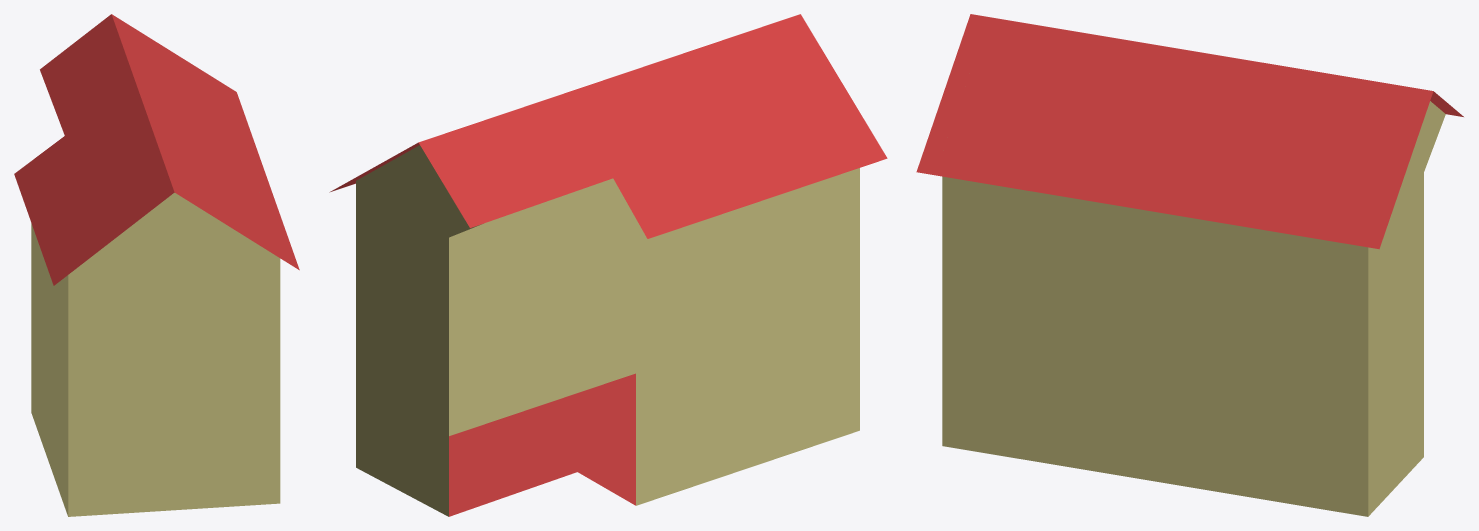
3 renders of one model, left to right at view 1: azimuth 30°, elevation 25°; view 2: azimuth 150°, elevation 25°; view 3: azimuth 270°, elevation 25°, orthographic. The views are drawn at different scales.
Size of the model in its own units: 11.31 by 13.71 by 10.45.
